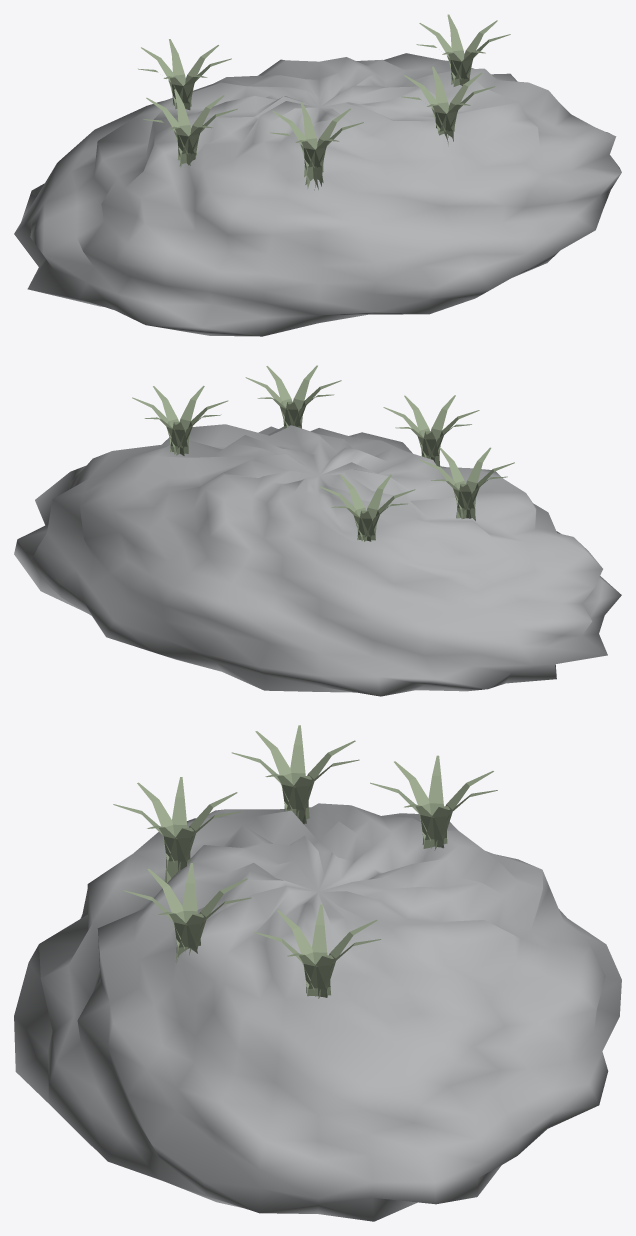
The model's file is alpine-and-arctic-biomes-saxifrage-5fa7c707__20948.glb.
The picture shows the model from 3 angles, top to bottom: view 1: azimuth 30°, elevation 25°; view 2: azimuth 150°, elevation 25°; view 3: azimuth 270°, elevation 25°; orthographic projection. The views are drawn at different scales.
Visible parts, largest first — view 1: saxifrage; view 2: saxifrage; view 3: saxifrage.
Boxes of the visible parts, <box> form: saxifrage: <box>14,14,621,336</box>; saxifrage: <box>14,365,621,696</box>; saxifrage: <box>14,725,621,1221</box>.
Size of the model in its own units: 0.7375 by 0.1997 by 0.5132.
